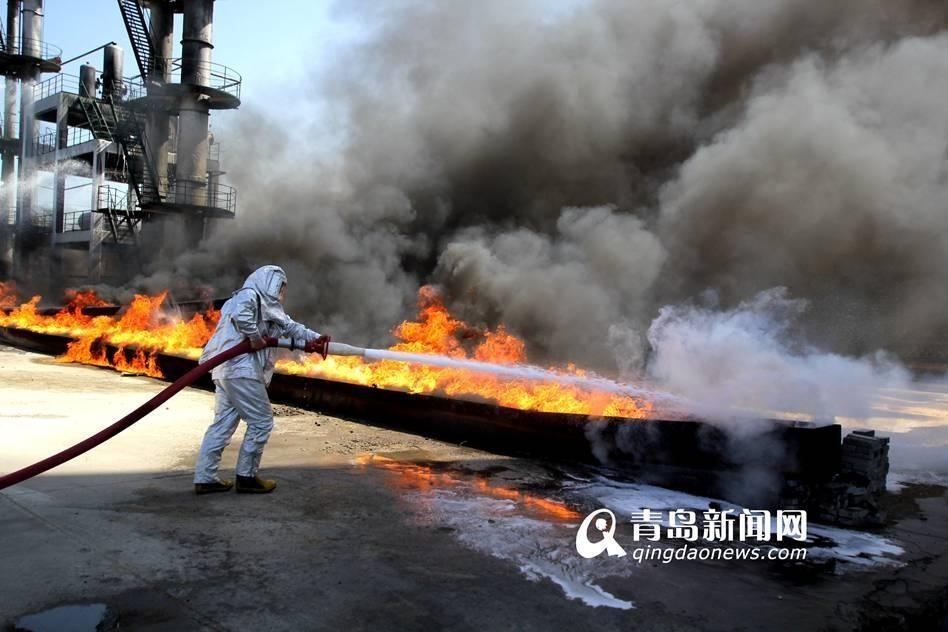fire: (266, 286, 655, 423), (0, 268, 222, 375)
